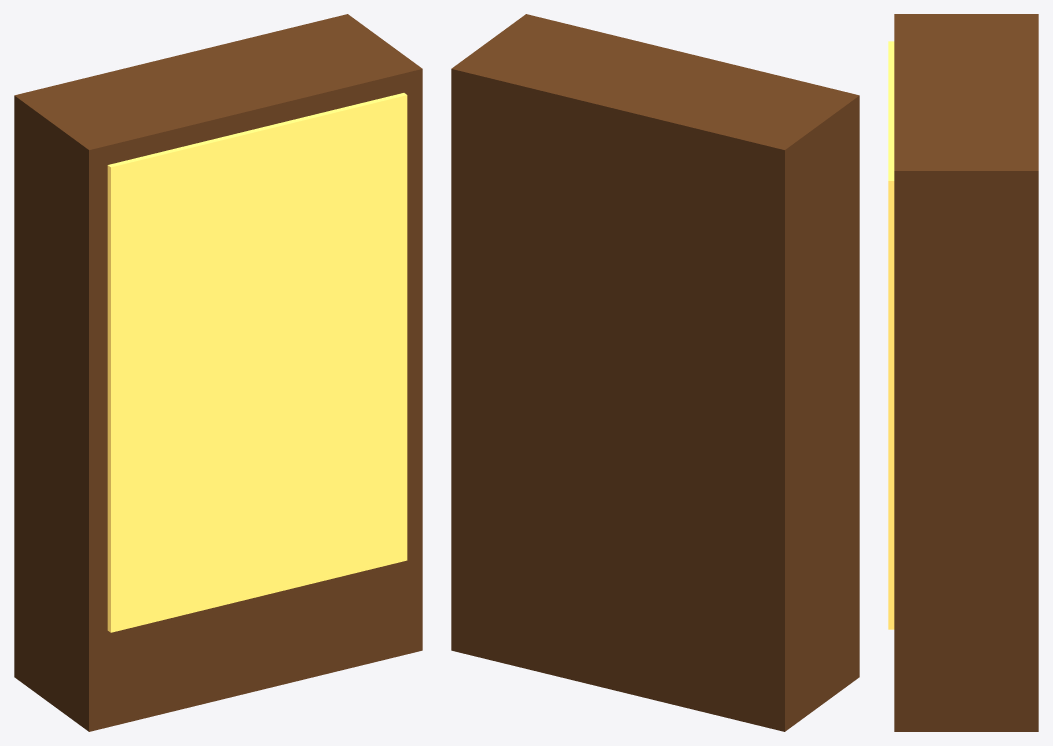
Rendered from trophy_case.fbx.
3 renders of one model, left to right at view 1: azimuth 30°, elevation 25°; view 2: azimuth 150°, elevation 25°; view 3: azimuth 270°, elevation 25°, orthographic. The views are drawn at different scales.
Visible parts, largest first — view 1: trophy_case; view 2: trophy_case; view 3: trophy_case.
Part boxes in pixels (left/top/right/bottom): trophy_case: left=14, top=14, right=422, bottom=731; trophy_case: left=451, top=14, right=859, bottom=731; trophy_case: left=888, top=14, right=1038, bottom=731.
Bounding box in the file's own units: 0.9 × 1.5 × 0.365.
